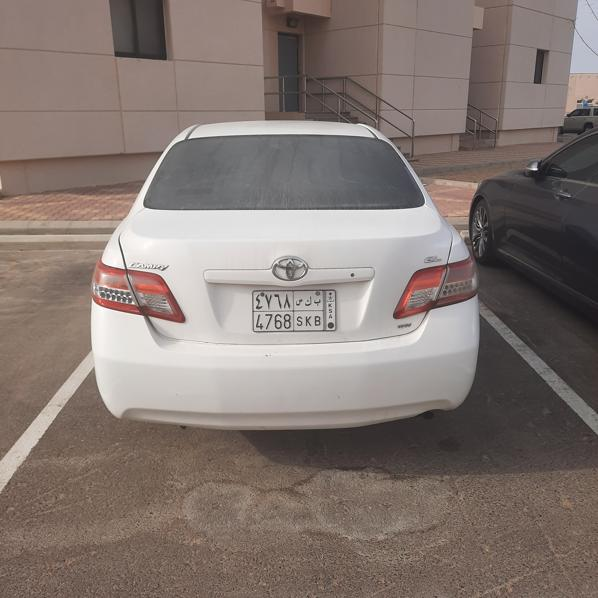numberplate: (252, 290, 337, 330)
